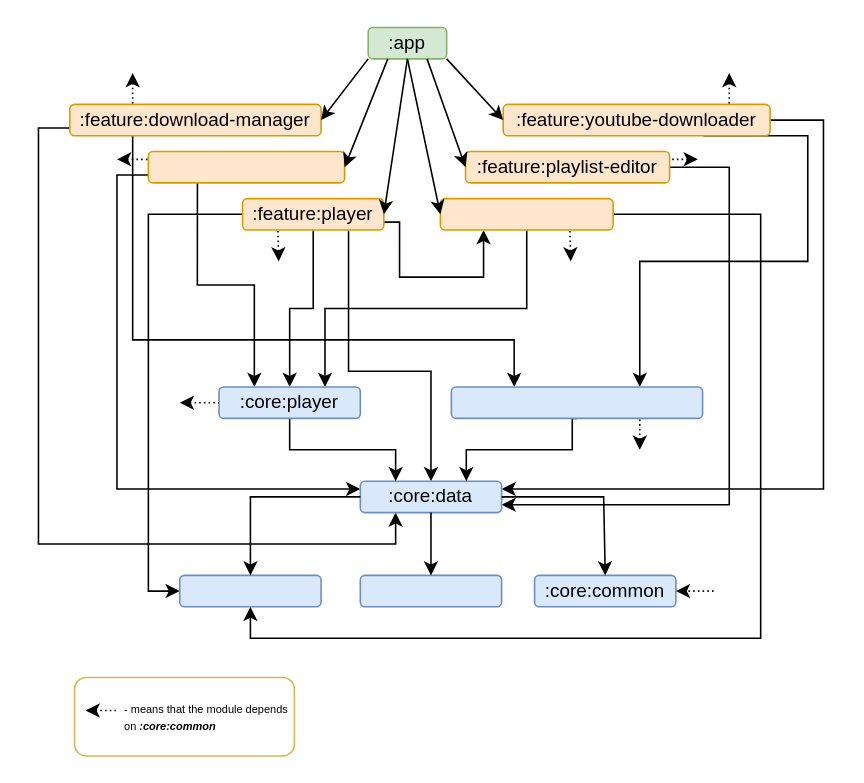
Image size: 864x783. Some labels were removed from this diagram. Here are the shapes that lost their labels. From the top down, the box of each, then its label:
(147, 150, 345, 183): :feature:saved-music
(439, 197, 613, 230): :feature:equalizer
(450, 385, 703, 418): :core:downloader:youtube
(178, 574, 321, 607): :core:model
(359, 574, 502, 607): :core:database
